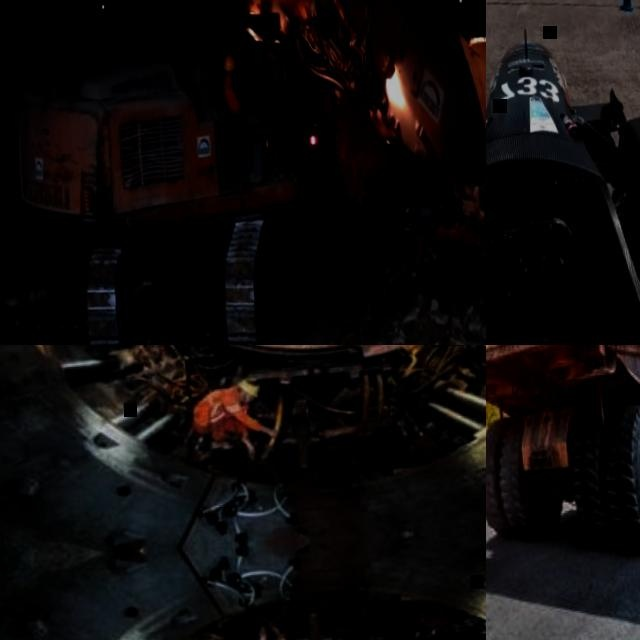Hardhat: (236, 376, 263, 399), (221, 54, 236, 71)
NO-Mask: (241, 395, 250, 406), (230, 72, 234, 79)
NO-Safety Vest: (202, 388, 245, 424)
Person: (189, 373, 283, 464), (219, 48, 268, 169)
Safety Cone: (617, 0, 634, 13)
Safety Vest: (220, 75, 241, 115)
machinery: (0, 0, 486, 345), (486, 345, 640, 585)
vehicle: (486, 11, 640, 345)
